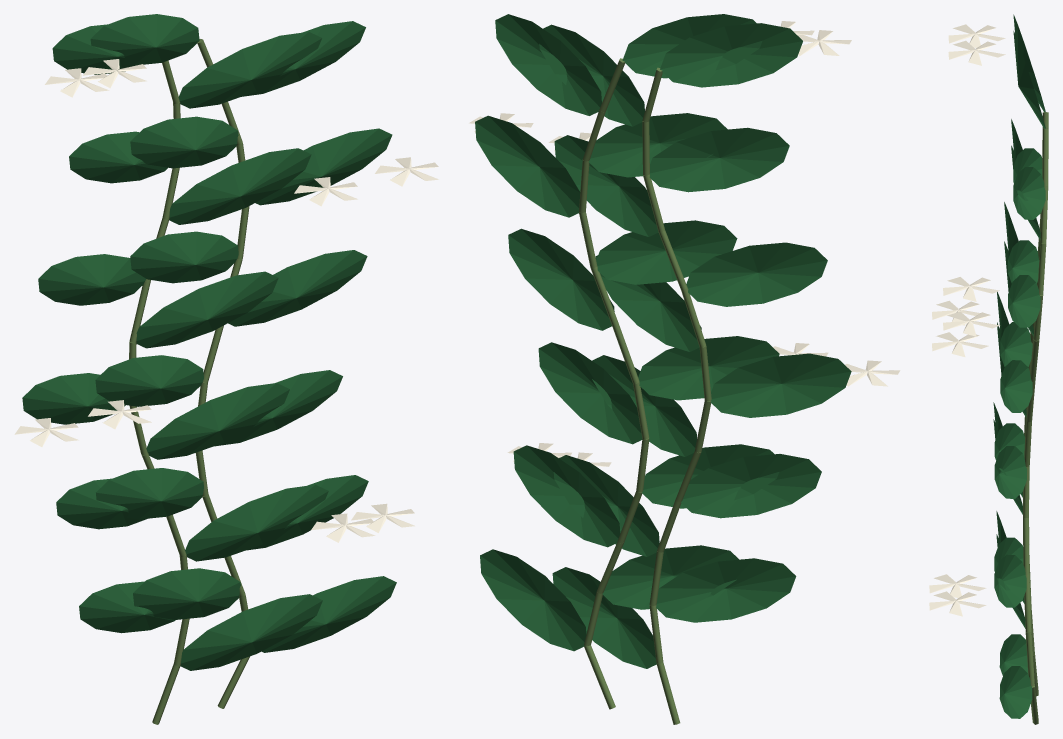
File: trachelospermum-jasminoides.glb
3 renders of one model, left to right at view 1: azimuth 30°, elevation 25°; view 2: azimuth 150°, elevation 25°; view 3: azimuth 270°, elevation 25°, orthographic. The views are drawn at different scales.
Visible parts, largest first — view 1: Climber species leaves, Climber species stems, Species flowers / bracts; view 2: Climber species leaves, Climber species stems, Species flowers / bracts; view 3: Climber species leaves, Species flowers / bracts, Climber species stems.
Boxes of the visible parts, x1=… form: Climber species leaves: x1=22, y1=14, x2=396, y2=670; Climber species stems: x1=129, y1=39, x2=249, y2=724; Species flowers / bracts: x1=14, y1=59, x2=438, y2=542; Climber species leaves: x1=475, y1=14, x2=851, y2=668; Climber species stems: x1=579, y1=58, x2=711, y2=724; Species flowers / bracts: x1=469, y1=21, x2=900, y2=466; Climber species leaves: x1=993, y1=14, x2=1045, y2=718; Species flowers / bracts: x1=929, y1=24, x2=1005, y2=616; Climber species stems: x1=1023, y1=112, x2=1048, y2=724.
Size of the model in its own units: 0.5191 by 0.8485 by 0.1439.
